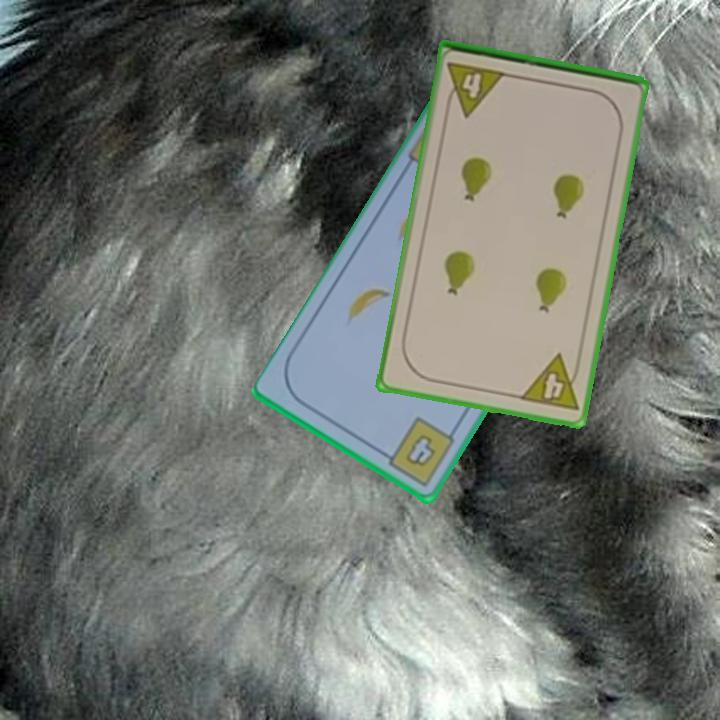4b: (377, 413, 459, 490)
4p: (516, 350, 585, 414), (442, 58, 509, 119)
